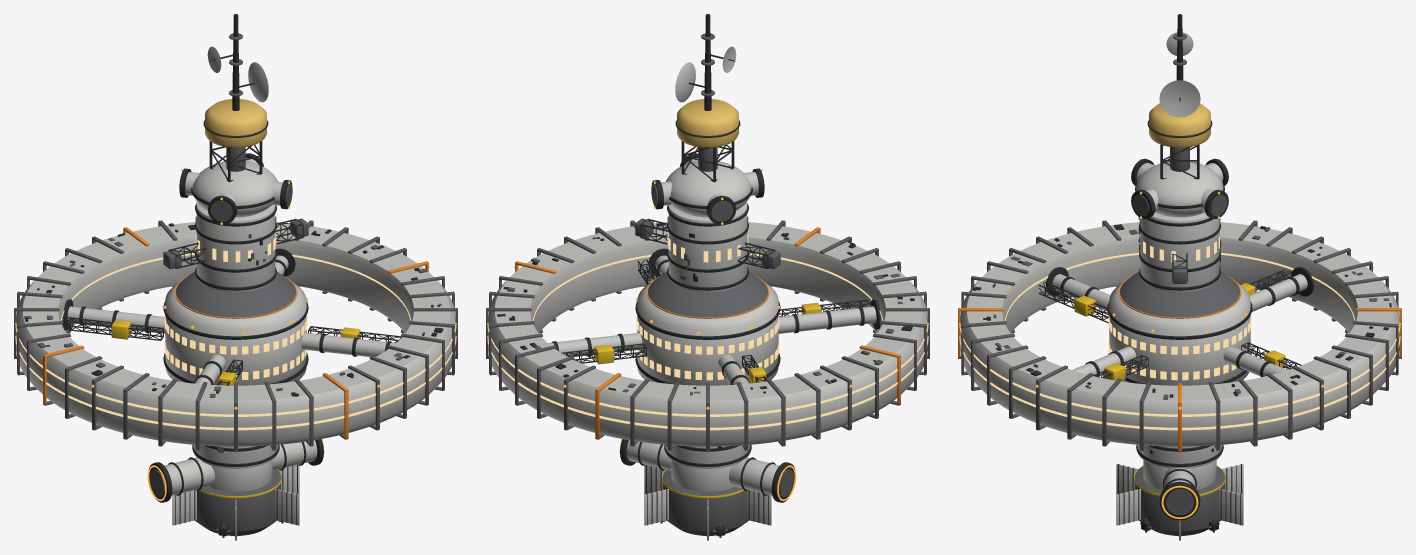
File: station.glb
3 views of the same model, side by side, from view 1: azimuth 30°, elevation 25°; view 2: azimuth 150°, elevation 25°; view 3: azimuth 270°, elevation 25° (orthographic).
Visible parts, largest first — view 1: ring, station; view 2: ring, station; view 3: ring, station.
Boxes of the visible parts, x1,y1,x2,y2 form: ring: [14, 216, 457, 451]; station: [147, 14, 324, 540]; ring: [486, 216, 929, 451]; station: [619, 14, 796, 540]; ring: [958, 220, 1401, 451]; station: [1107, 14, 1252, 540].
Size of the model in its own units: 15.78 by 20.1 by 15.72.
